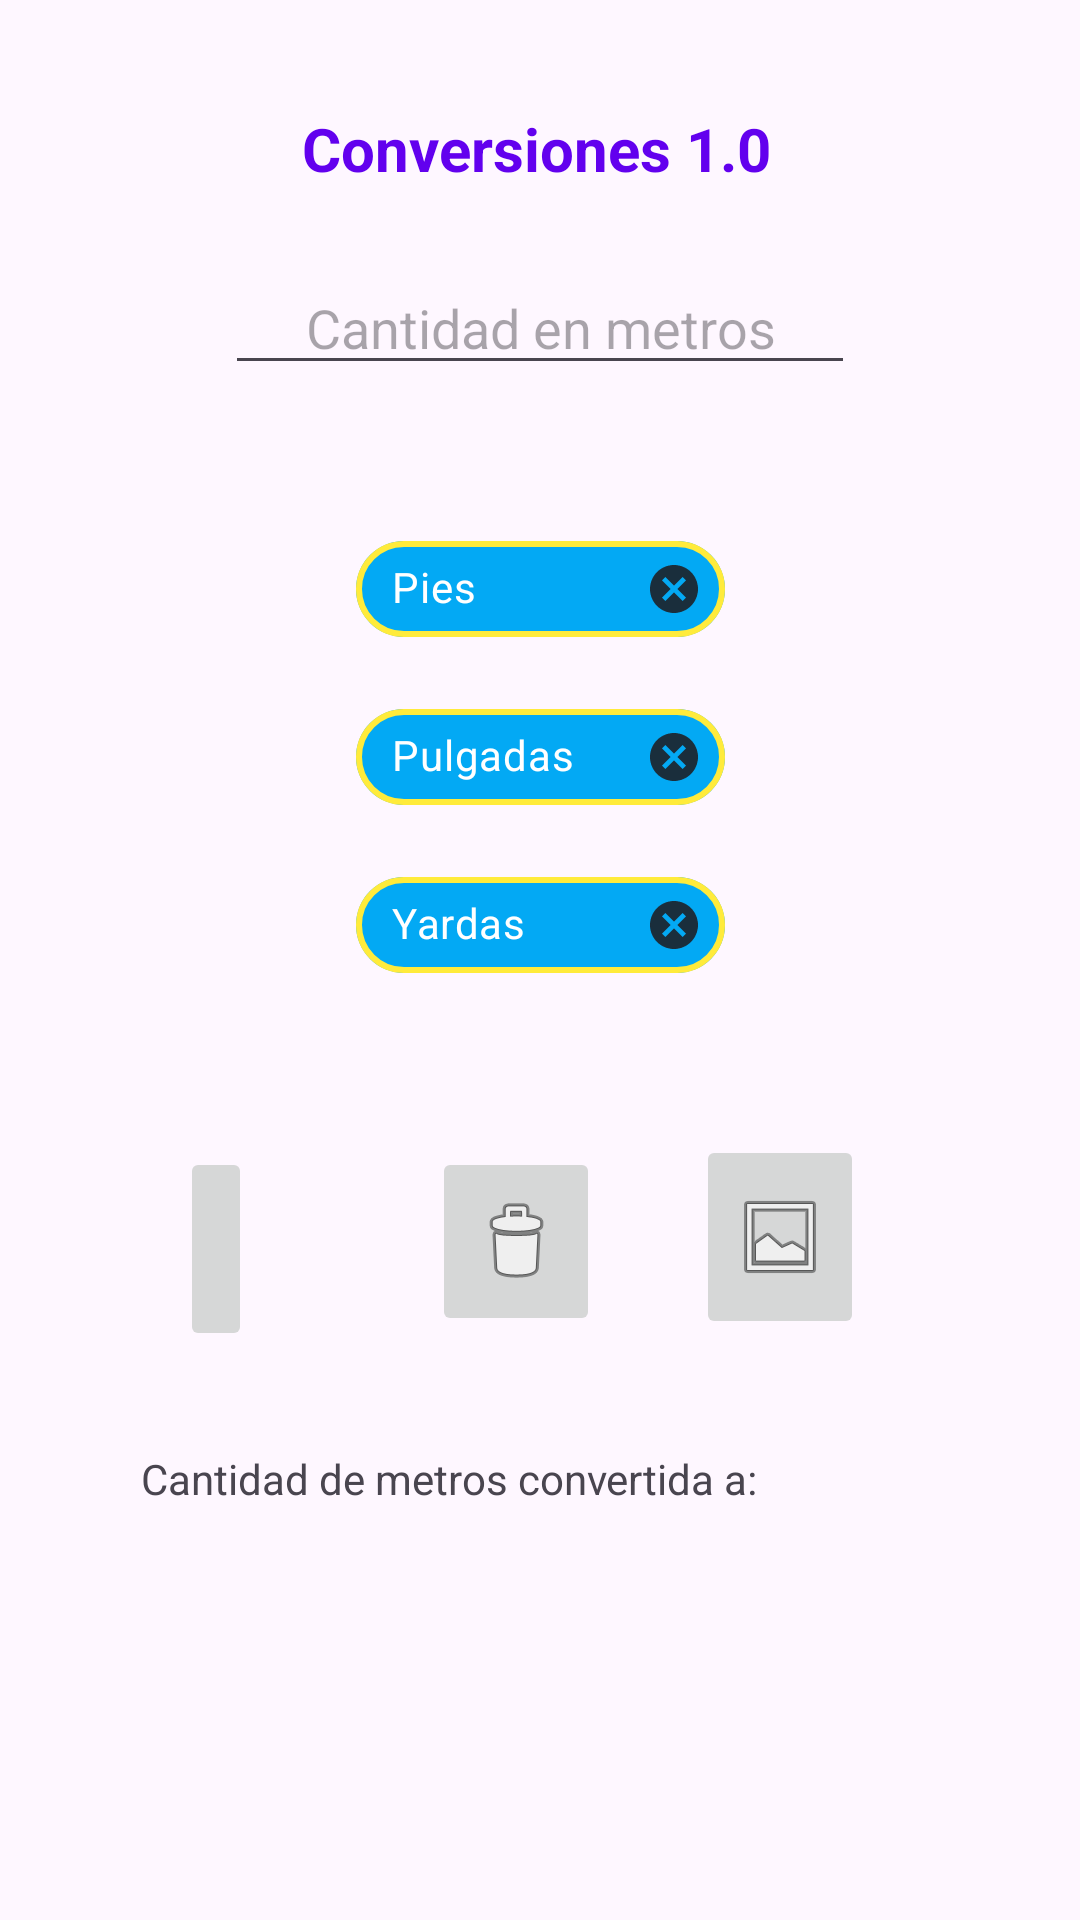

Named icons in this screenshot (1080×1920) and their bounding boxes, [x1=x1, y1=y1, x2=x2, y2=y2]:
delete: [x1=444, y1=1165, x2=588, y2=1318]
gallery: [x1=708, y1=1153, x2=852, y2=1321]
